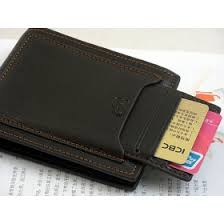monedero: (1, 28, 222, 192)
